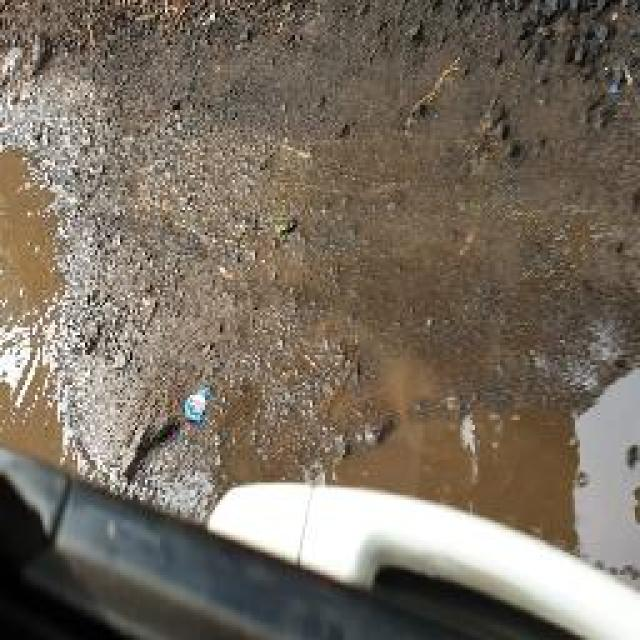stagnation: (332, 326, 640, 535), (0, 140, 78, 452)
